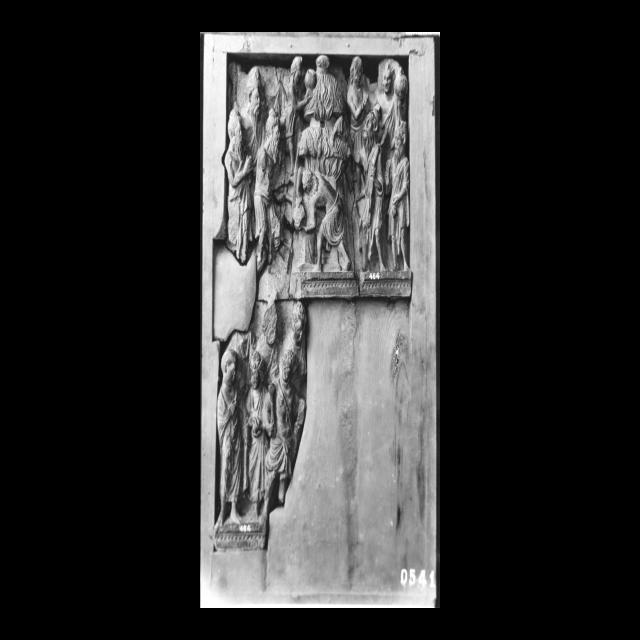buddha-pyre: (299, 56, 350, 184)
